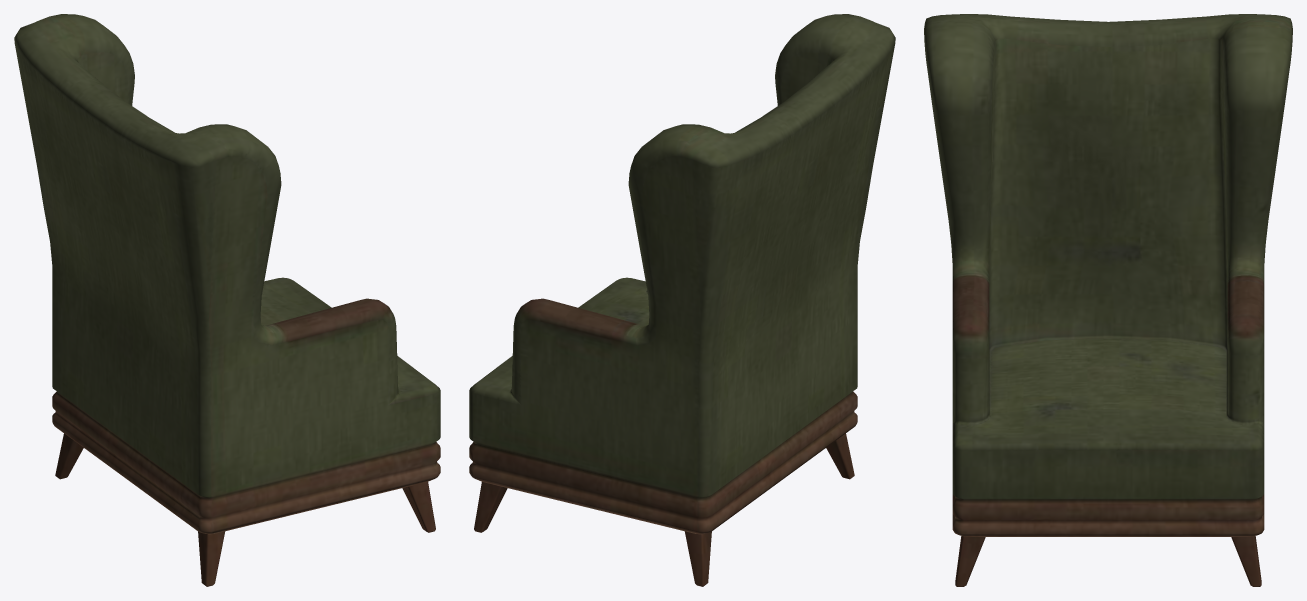
File: chair.glb
3 views of the same model, side by side, from view 1: azimuth 30°, elevation 25°; view 2: azimuth 150°, elevation 25°; view 3: azimuth 270°, elevation 25° (orthographic).
Parts seen in each view (by area): view 1: Cube.1629; view 2: Cube.1629; view 3: Cube.1629.
Boxes of the visible parts, x1,y1,x2,y2 form: Cube.1629: (14, 14, 440, 586); Cube.1629: (469, 14, 895, 586); Cube.1629: (924, 14, 1292, 586).
Size of the model in its own units: 0.8237 by 1.29 by 0.9434.
Materials: 1 (1 with a texture image).
